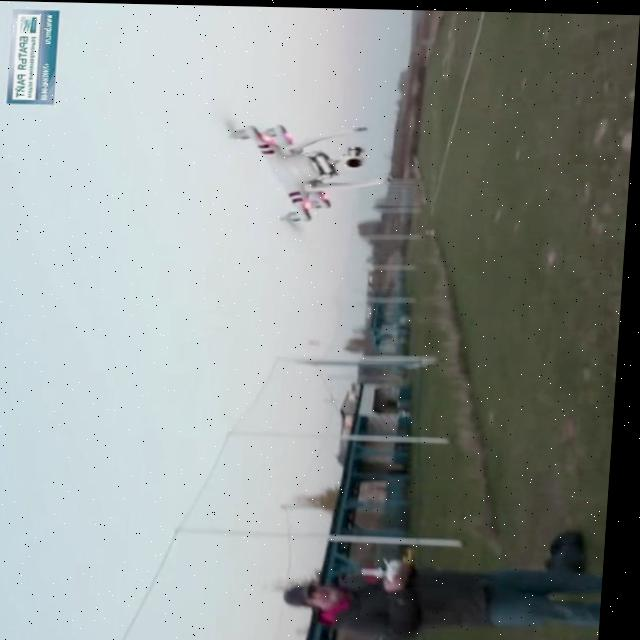drone: (213, 110, 400, 233)
